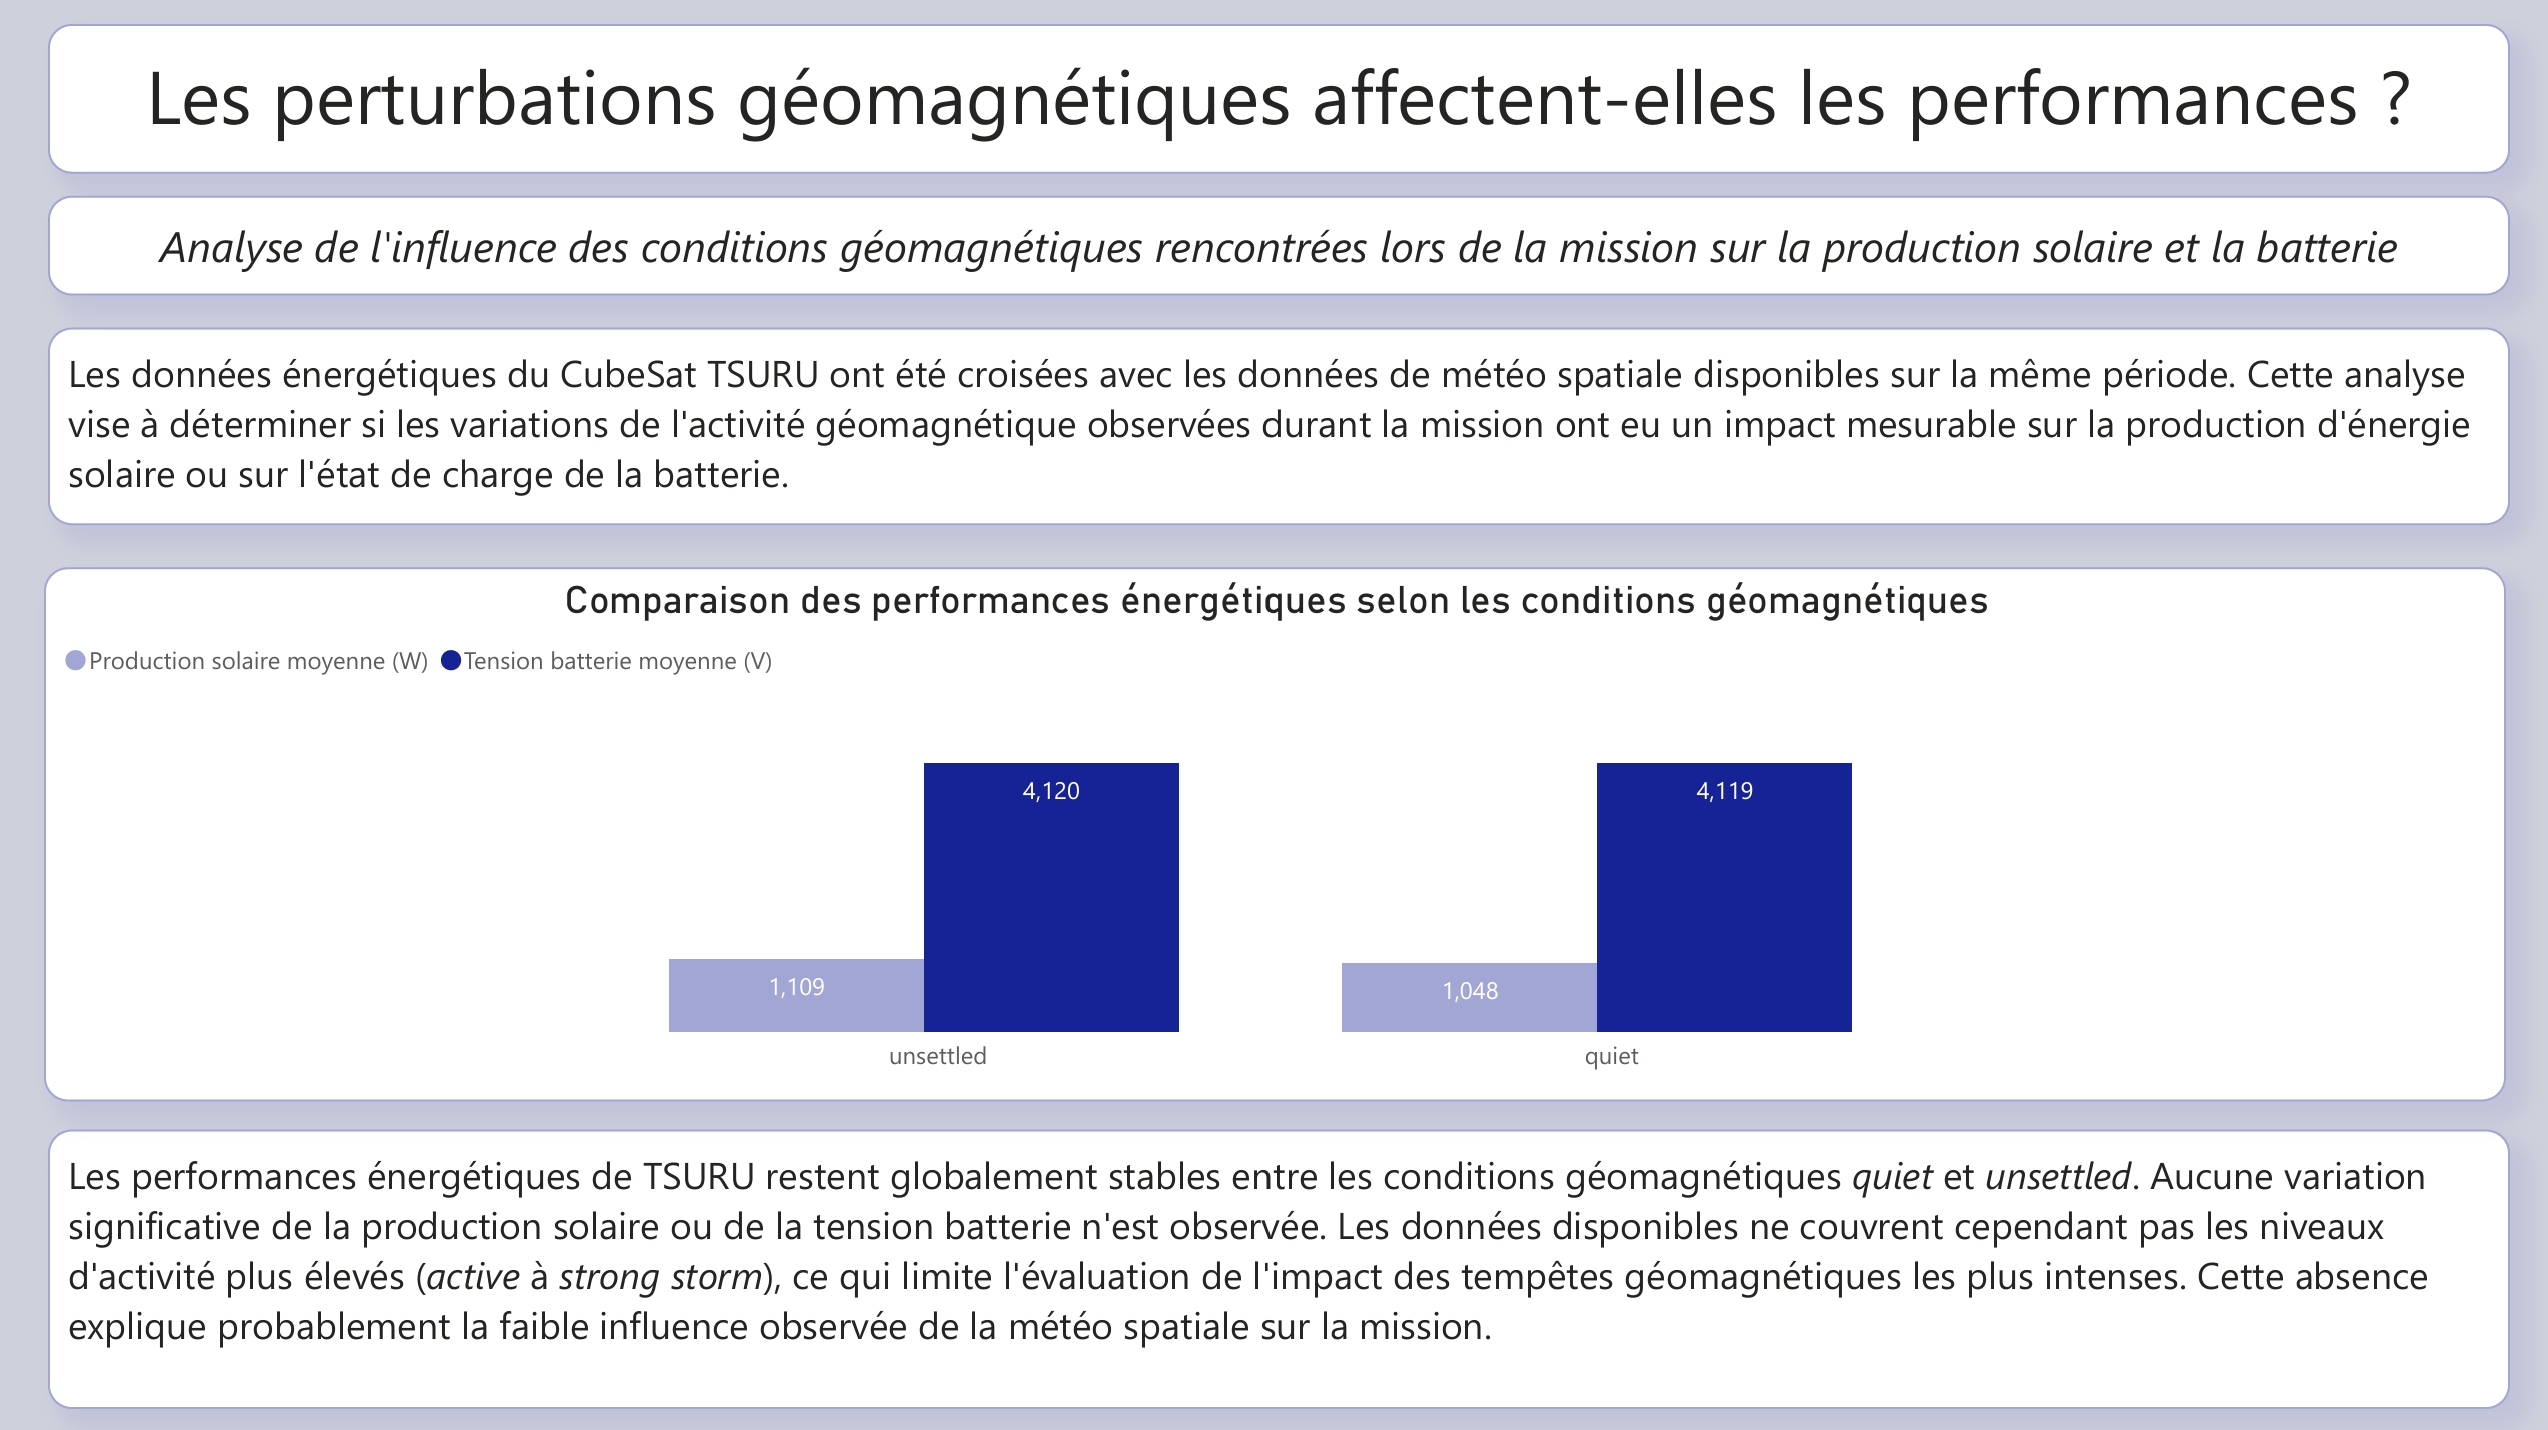

This screenshot's page, from the dashboard's own definition file:
{"tool":"powerbi","page":{"name":"04 Influence de la météo sur la mission ","canvas":[1280,720],"ordinal":3},"visuals":[{"type":"textbox","box":[26.4,14.2,1231.2,75.2],"z":0},{"type":"textbox","box":[25.8,166,1232.4,98.8],"z":1000},{"type":"textbox","box":[26.4,566.9,1231.2,140.2],"z":2000},{"type":"textbox","box":[26.4,99.6,1231.2,50.8],"z":3000},{"type":"clusteredColumnChart","title":"Comparaison des performances énergétiques selon les conditions géomagnétiques","fields":{"Category":["BIRDS_Dim_weather.geomagnetic_level"],"Y":["BIRDS_Mesures.Production solaire moyenne","Avg(BIRDS_Fact_eps_telemetry.battery_voltage_V)"]},"box":[24.4,286.5,1231.2,266.2],"z":8001}]}

Visuals, with their boxes in screenshot pixels (x1, y1, x2, y2), scaled from the page's 1280x720 canvas onto the 2548x1430 screenshot:
textbox: select_region(53, 28, 2503, 178)
textbox: select_region(51, 330, 2505, 526)
textbox: select_region(53, 1126, 2503, 1404)
textbox: select_region(53, 198, 2503, 299)
"Comparaison des performances énergétiques selon les conditions géomagnétiques" clusteredColumnChart: select_region(49, 569, 2499, 1098)
